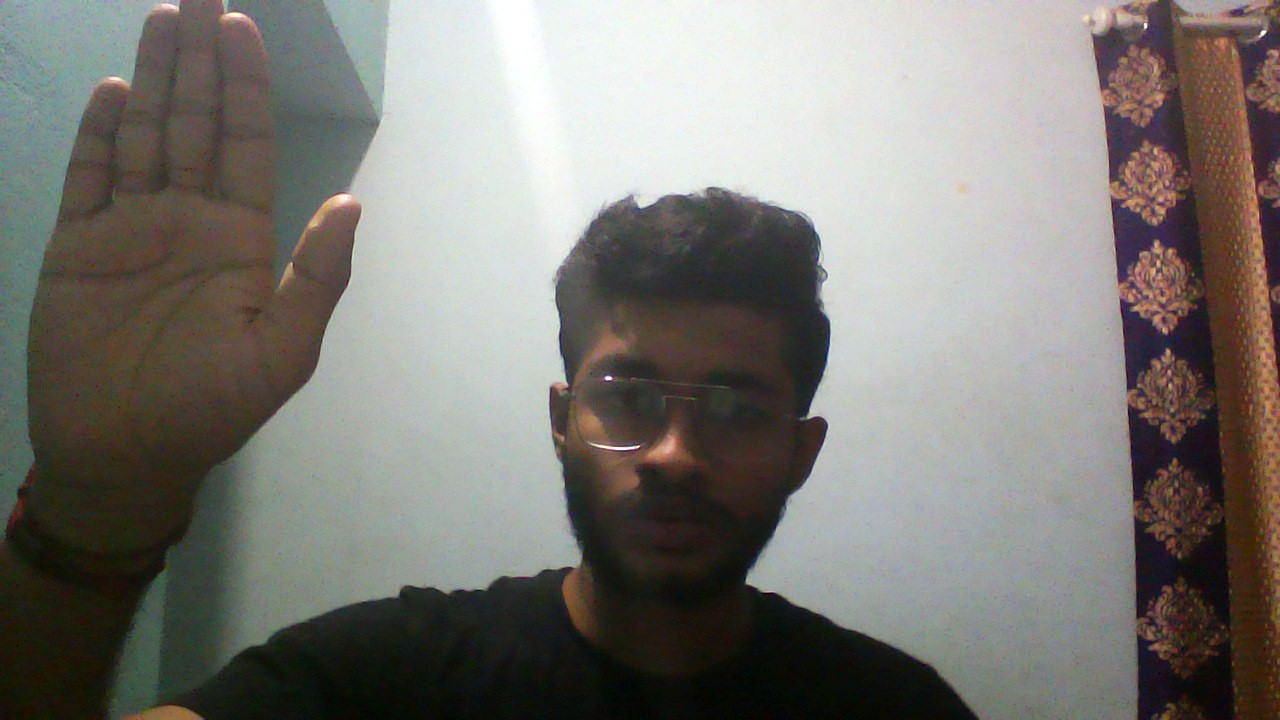hello: (26, 1, 361, 484)
